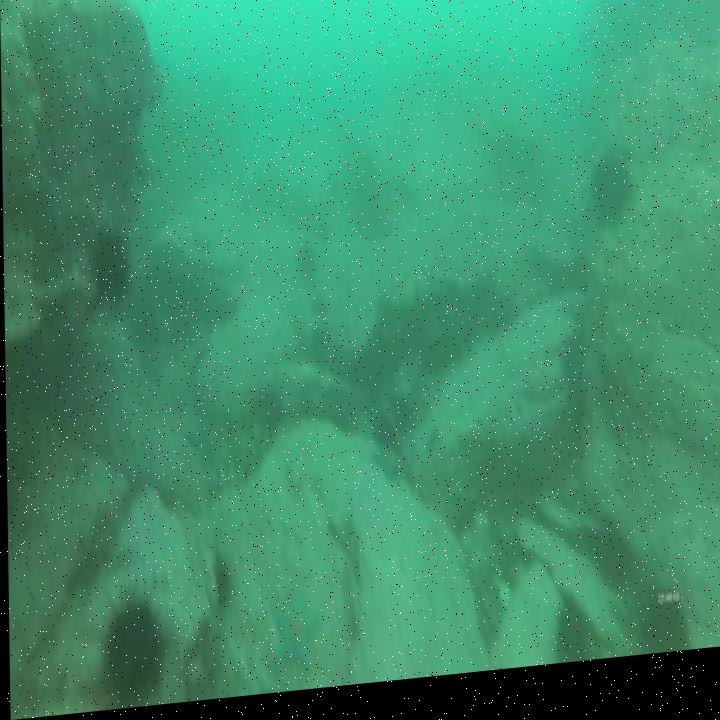echinus: (97, 588, 167, 713), (635, 590, 689, 669), (590, 525, 634, 610), (587, 164, 634, 242), (87, 229, 131, 309), (547, 607, 589, 676), (208, 552, 231, 620)
starfish: (263, 589, 323, 681), (250, 384, 286, 446), (291, 244, 320, 296)
